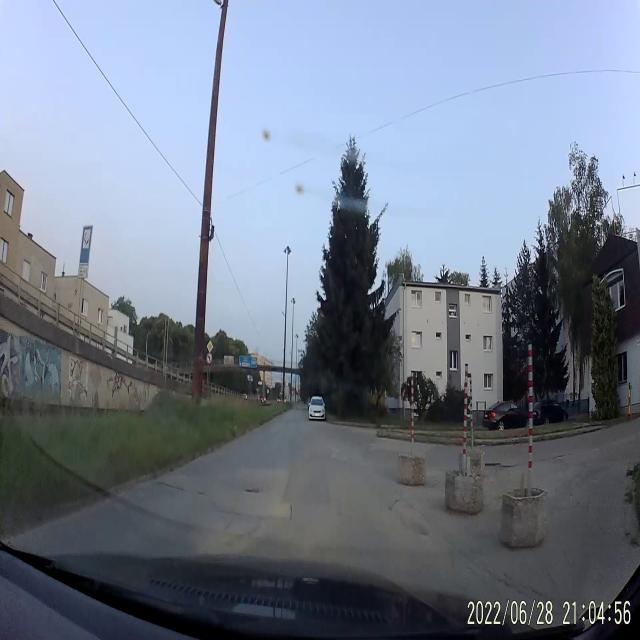Pothole: (388, 495, 430, 544), (152, 478, 186, 498), (236, 480, 264, 496)
